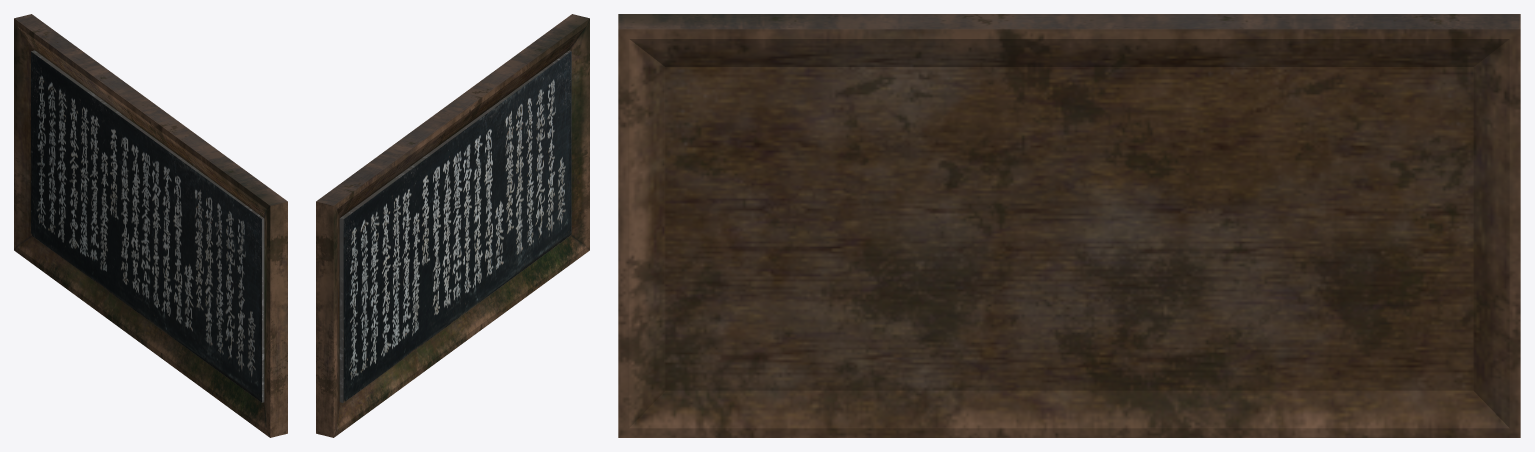
File: SM_JWD_Tablet01d.fbx
3 renders of one model, left to right at view 1: azimuth 30°, elevation 25°; view 2: azimuth 150°, elevation 25°; view 3: azimuth 270°, elevation 25°, orthographic. The views are drawn at different scales.
Parts seen in each view (by area): view 1: SM_JWD_Tablet01d; view 2: SM_JWD_Tablet01d; view 3: SM_JWD_Tablet01d.
Part boxes in pixels (x1,y1,x2,y2): SM_JWD_Tablet01d: (14,14,287,437); SM_JWD_Tablet01d: (316,14,589,437); SM_JWD_Tablet01d: (618,14,1520,437).
Bounding box in the file's own units: 4 × 100 × 50.
1 material, 1 textured.
